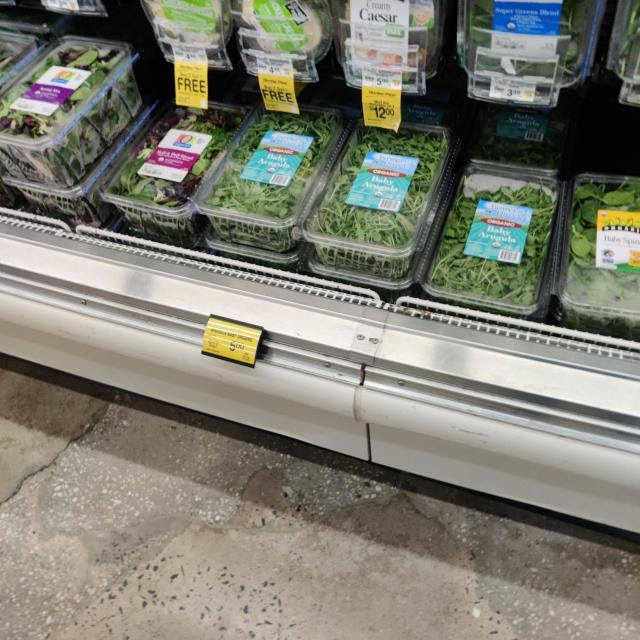Salad: (305, 120, 453, 278), (101, 98, 249, 246), (206, 105, 351, 253), (0, 37, 141, 187), (431, 163, 561, 315), (555, 176, 639, 330)
